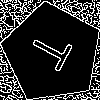T: (27, 28, 81, 77)
